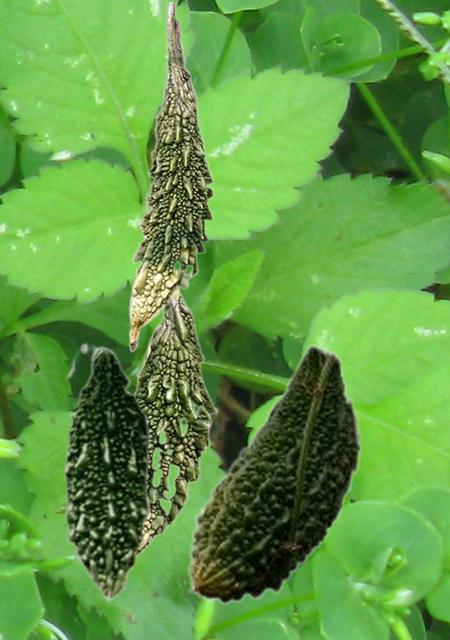ampalaya: (187, 344, 362, 604), (128, 2, 214, 352), (63, 342, 156, 602), (134, 294, 217, 556)
